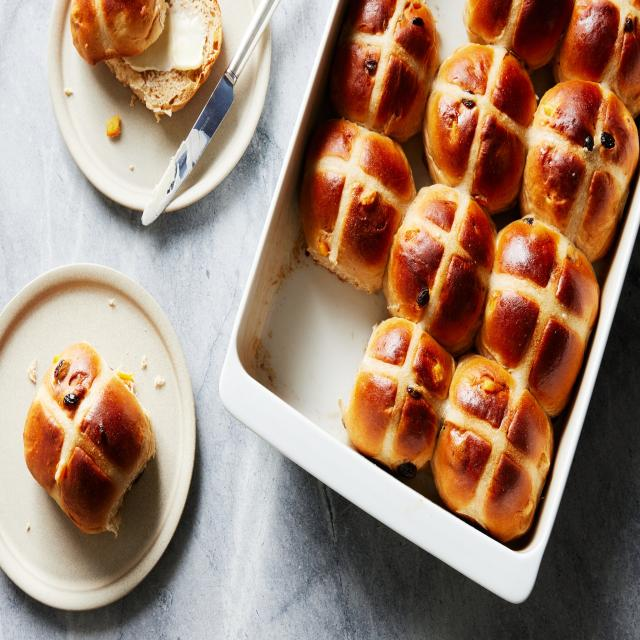Bun: (16, 338, 154, 539), (481, 208, 602, 423), (430, 350, 552, 550), (522, 72, 640, 262), (421, 42, 542, 214), (381, 180, 497, 359), (302, 116, 413, 302), (349, 312, 457, 469), (338, 0, 436, 138), (556, 0, 640, 123), (462, 0, 573, 77)
Butter: (149, 14, 208, 77)
